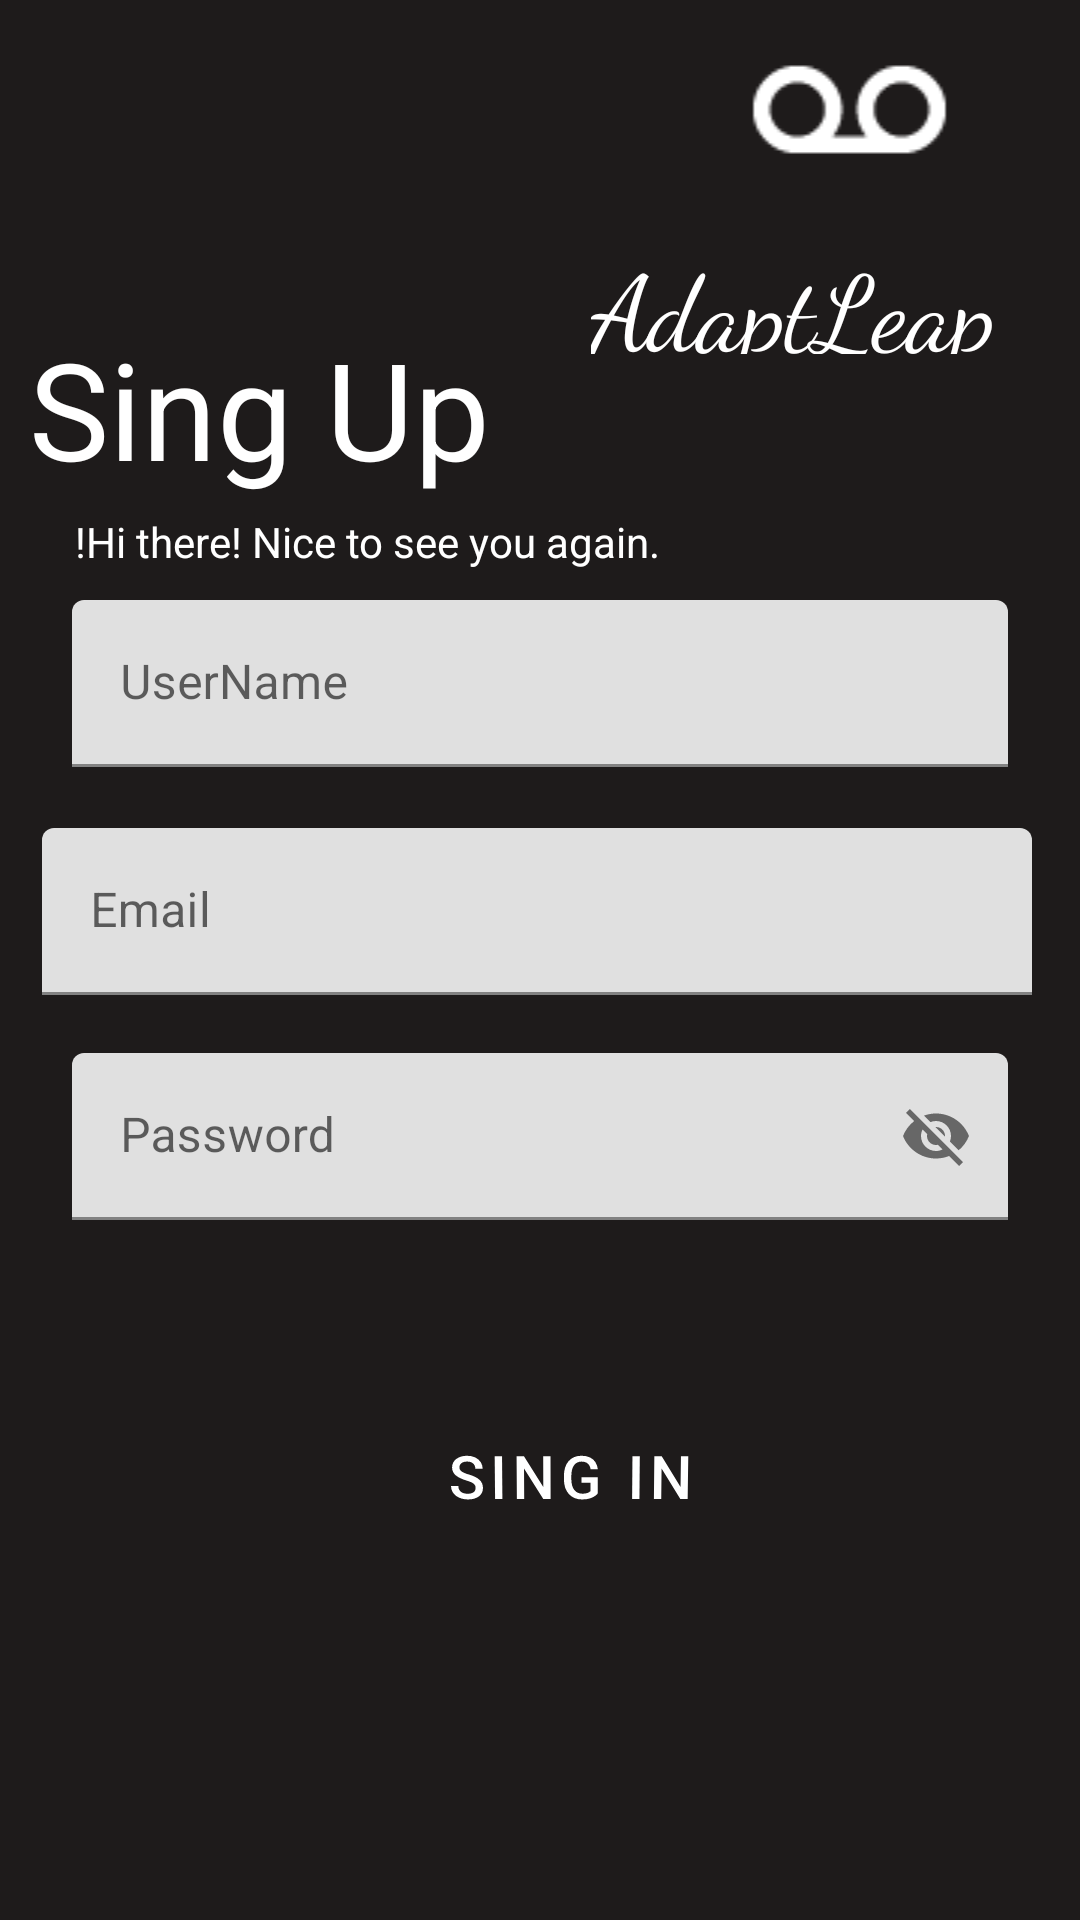

Icon bounding boxes for this 1080px x 1920px phone screenshot, format [x1, y1, x2, y2]:
voicemail: [752, 65, 947, 154]
